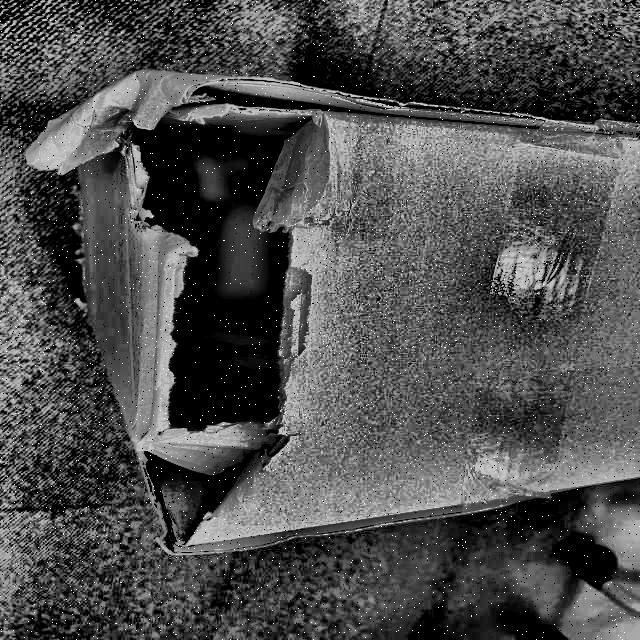box: (55, 47, 631, 542)
hole: (111, 87, 311, 427)
